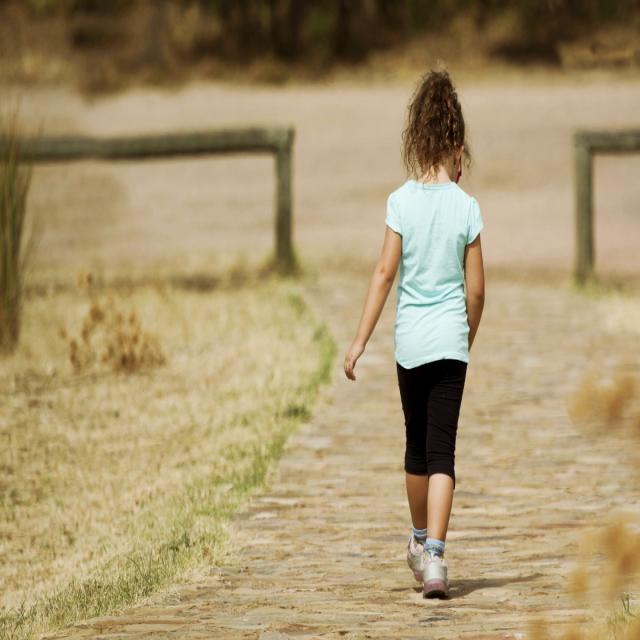child: (342, 70, 488, 598)
